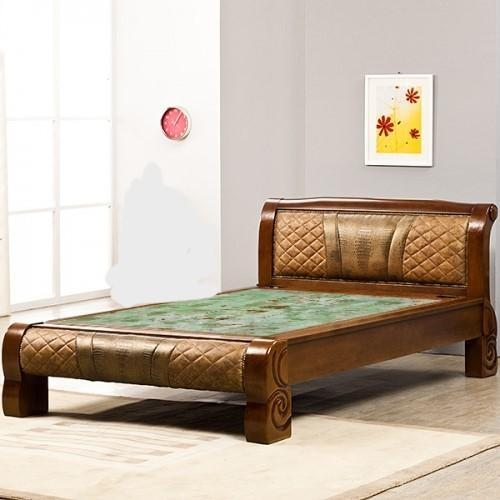Bed-Mattress: (0, 169, 498, 437)
